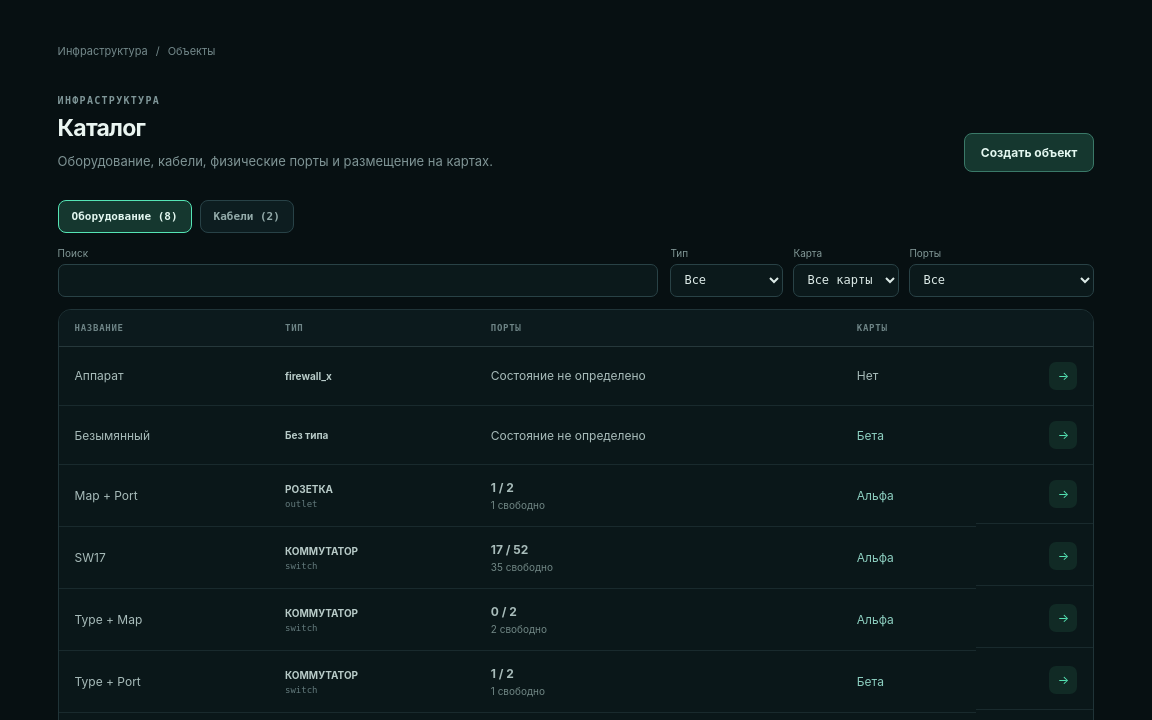
it: InfrastructureObjectsPage inventory catalog › generates an existing Cable label through the authoritative write and retries only catalog reload
Click the tab "Кабели (2)". click: (247, 216)
box: [200,200,294,232]
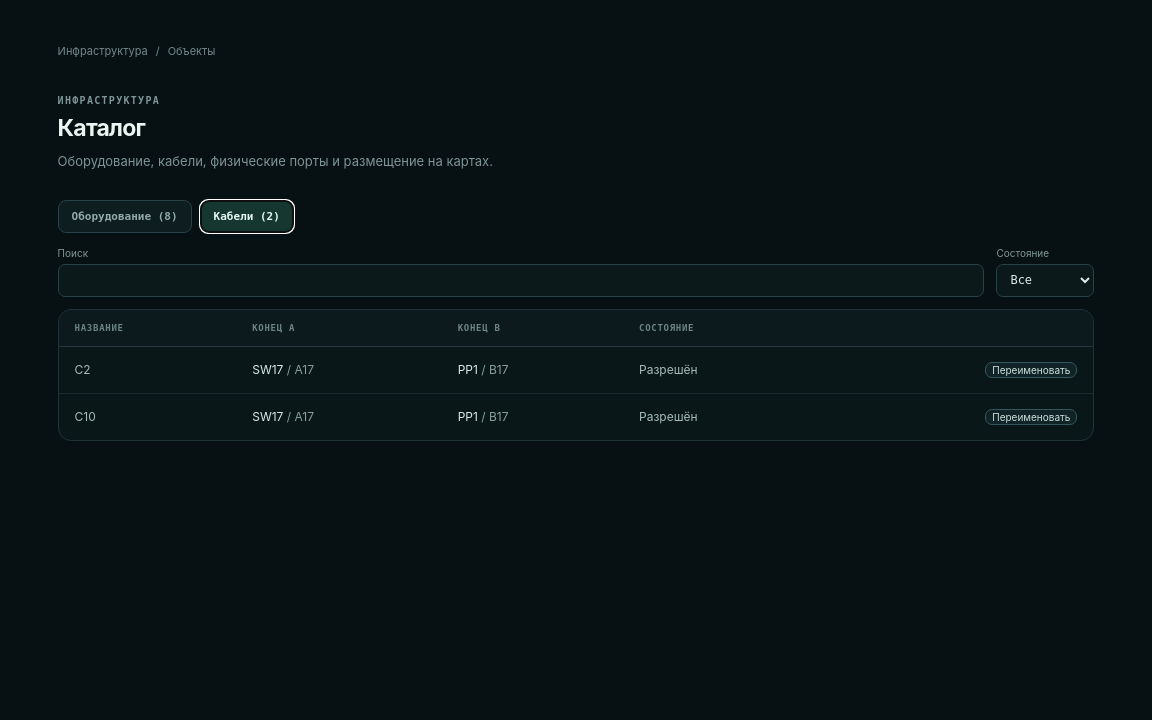
Click the button with aria-label "Переименовать C10". click: (1031, 416)
box: [985,408,1077,424]
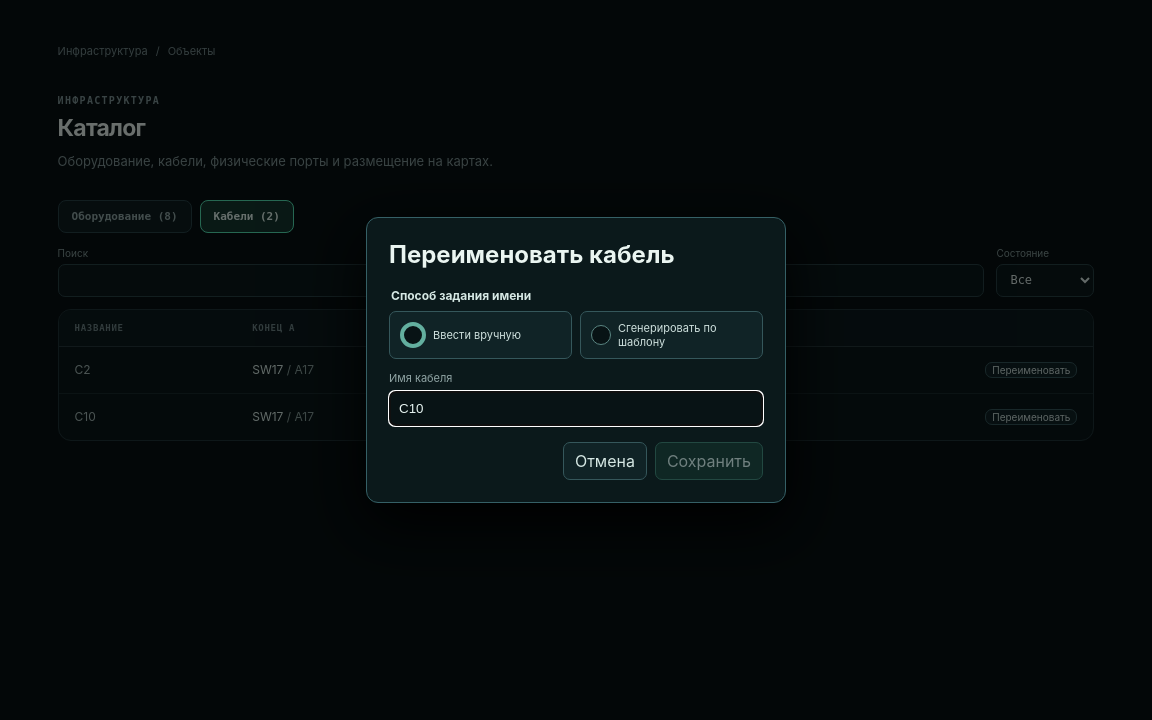
Click the radio button labelled "Сгенерировать по шаблону". click: (601, 336)
box: [591,326,611,346]
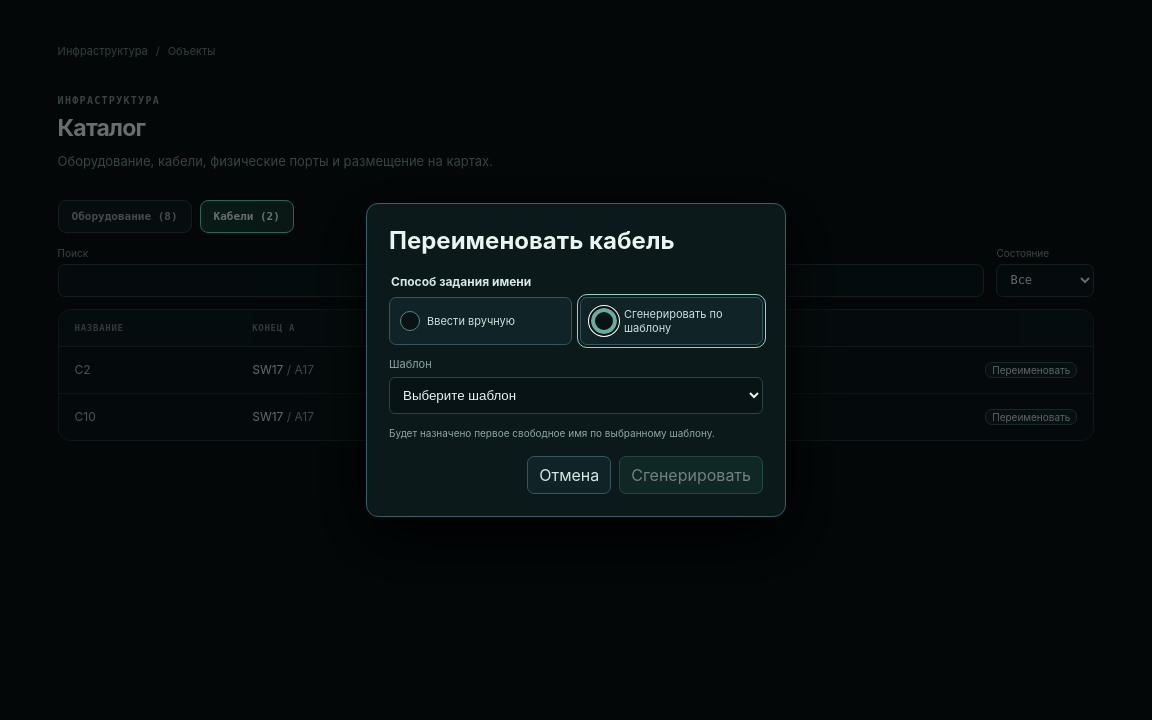
Result: the button "Сгенерировать" is disabled at [619,456,763,494]
Result: the text labelled "Имя кабеля" is gone
Select "FC" in the dropdown labelled "Шаблон". click: (576, 396)
box: [389,378,763,414]
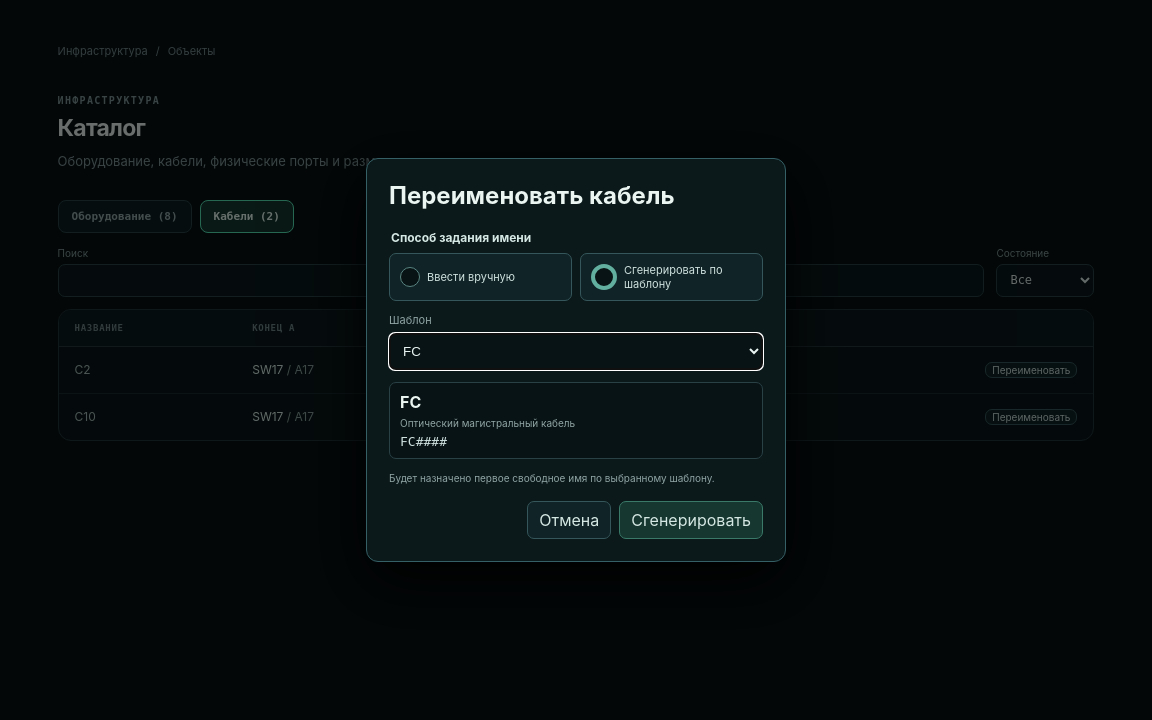
Result: the text "Оптический магистральный кабель" is shown at [400,417,575,429]
Result: the text "FC####" is shown at [400,434,447,449]
Click the button "Сгенерировать". click: (691, 520)
box: [619,501,763,539]
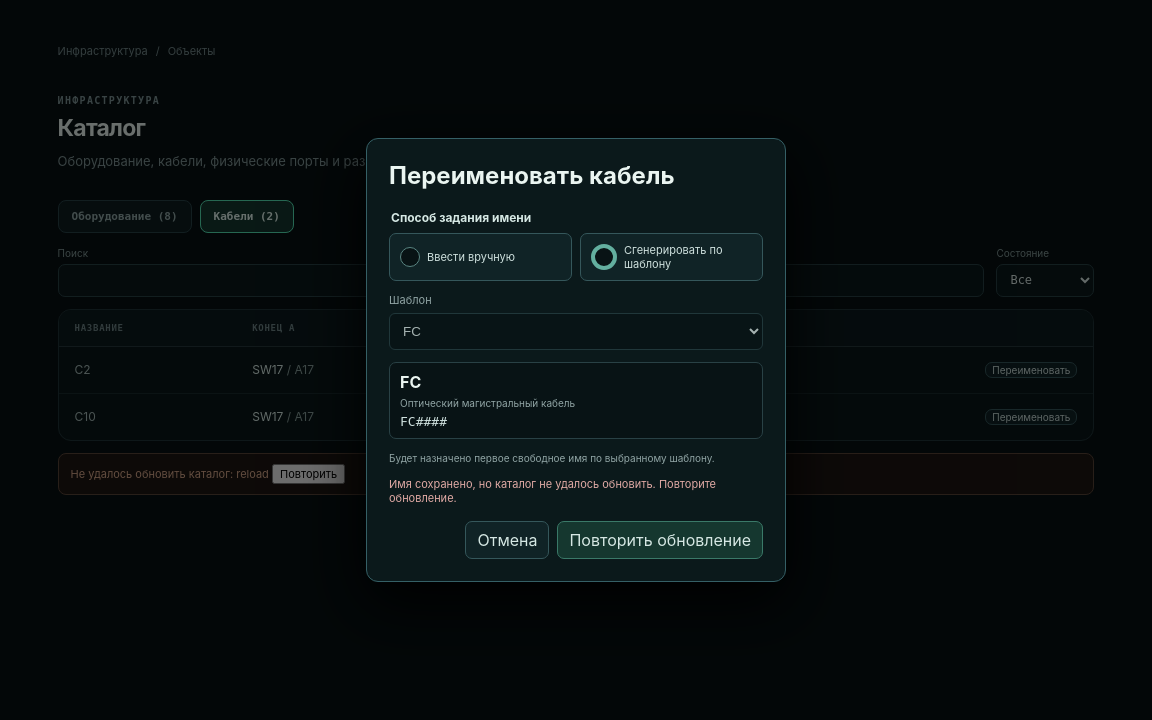
Result: the text "Имя сохранено, но каталог не удалось обновить. Повторите обновление." is shown at [389,477,763,505]
Click the button "Повторить обновление". click: (660, 540)
box: [557,521,763,559]
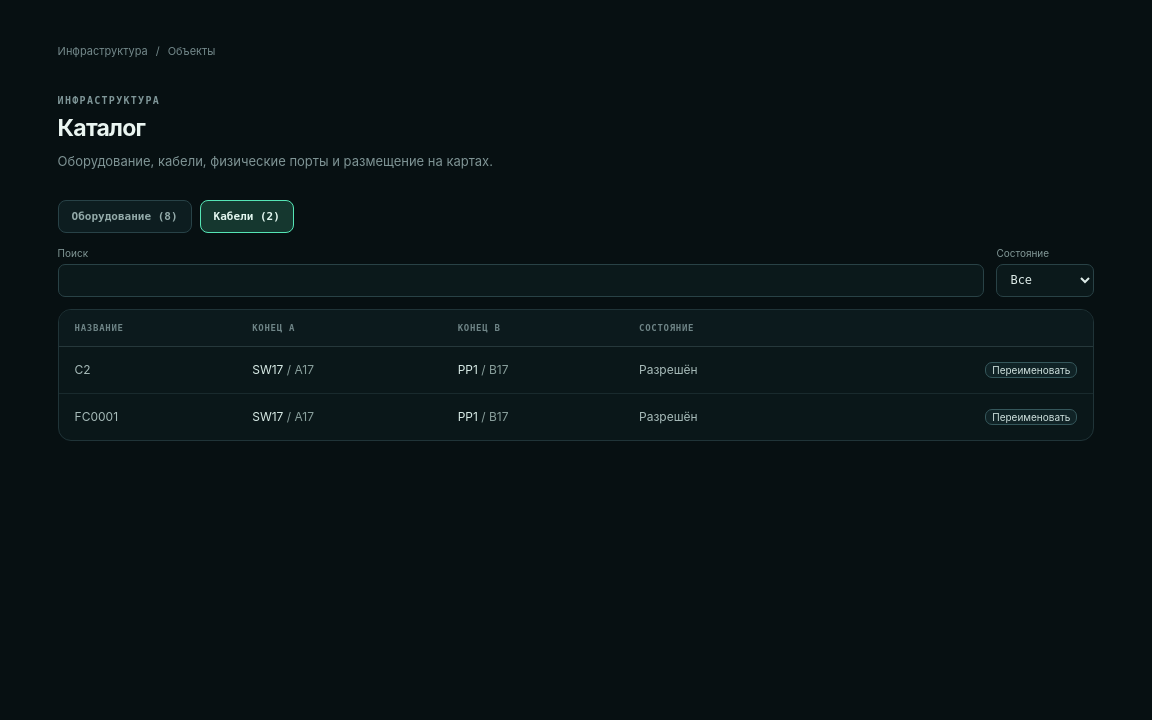
Result: the text "FC0001" is shown at [59,394,236,440]
